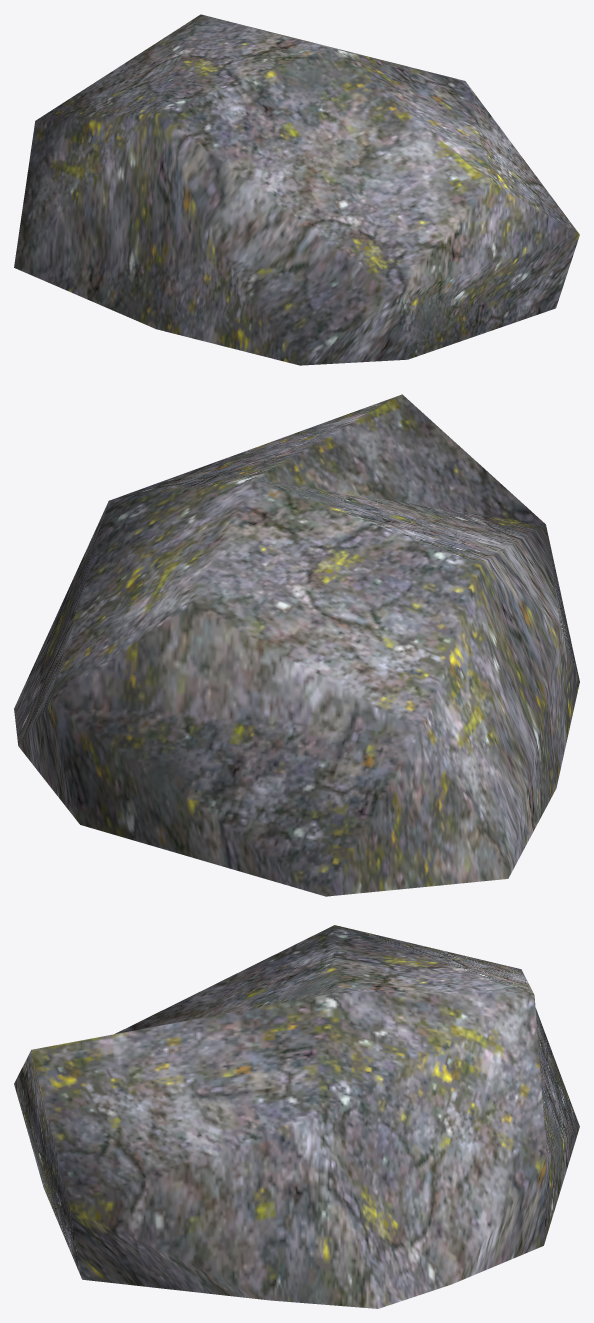
File: rock_weatheredmossy_large_a1_l1.fbx
3 views of the same model, one above another, from view 1: azimuth 30°, elevation 25°; view 2: azimuth 150°, elevation 25°; view 3: azimuth 270°, elevation 25° (orthographic). The views are drawn at different scales.
Parts seen in each view (by area): view 1: mesh_node; view 2: mesh_node; view 3: mesh_node.
Part boxes in pixels (x1=…): mesh_node: x1=14, y1=14, x2=579, y2=365; mesh_node: x1=14, y1=394, x2=579, y2=896; mesh_node: x1=14, y1=925, x2=579, y2=1308.
Size of the model in its own units: 0.6933 by 0.3291 by 0.7237.
Materials: 1 (1 with a texture image).
